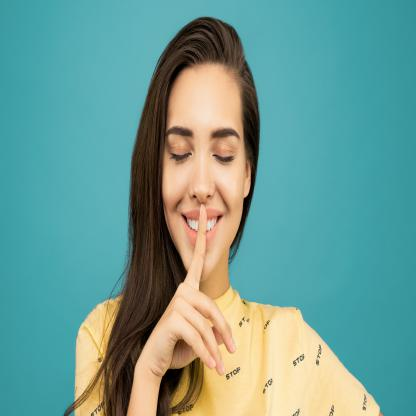Eye: (169, 141, 192, 162), (212, 145, 235, 164)
Mouth: (181, 209, 223, 246)
Nose: (189, 154, 215, 202)
